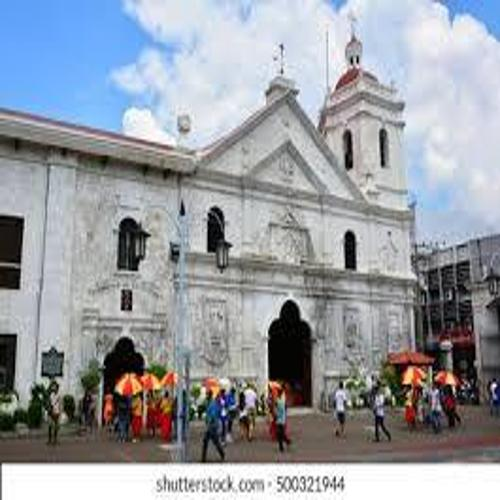Sto. Nino Basilica Church: (158, 12, 426, 419)
